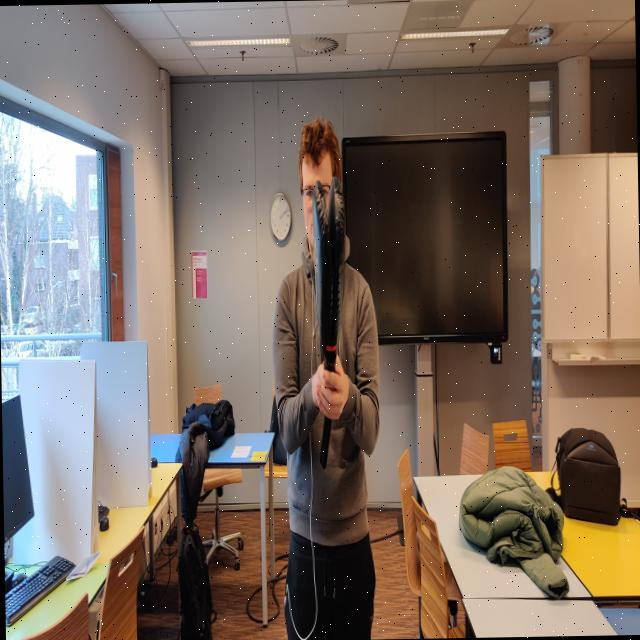paddle: (311, 175, 345, 371)
